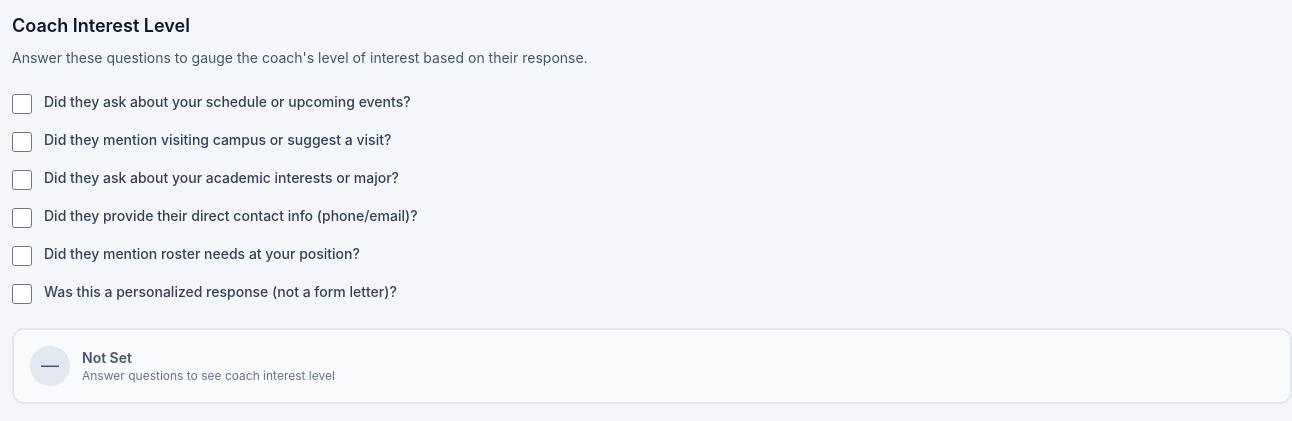
Scenario: InterestCalibration › displays emoji icons corresponding to interest level
Expected: the text "—" is shown, [41,352,59,380]
#  low: ❄️
Click the checkbox labelled "Did they ask about your schedule or upcoming events?". click: click(22, 104)
box: [12,94,32,114]
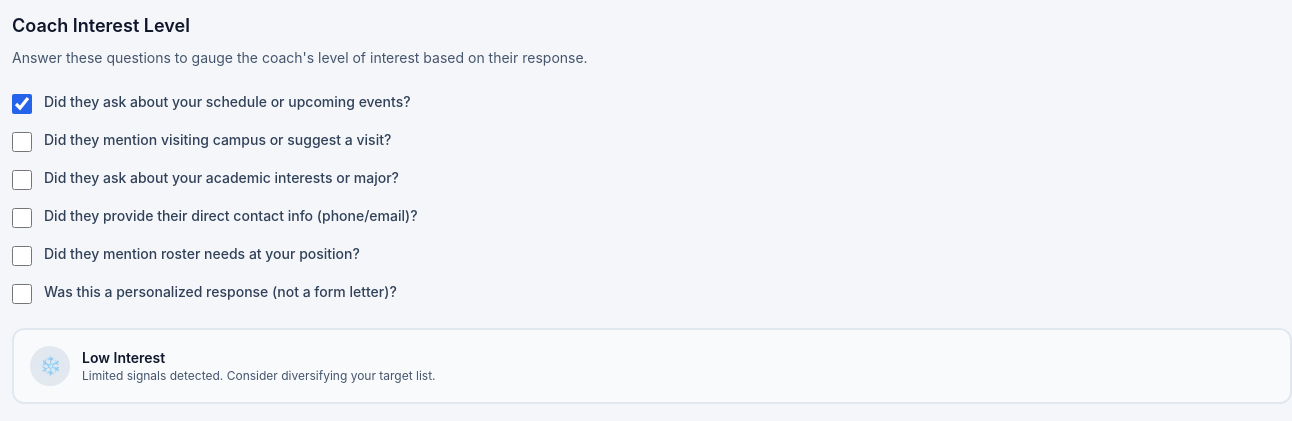
Now the text "❄️" is shown, box [39,352,61,380]
# medium: ⚡
Click the checkbox labelled "Did they mention visiting campus or suggest a visit?". click: click(22, 142)
box: [12,132,32,152]
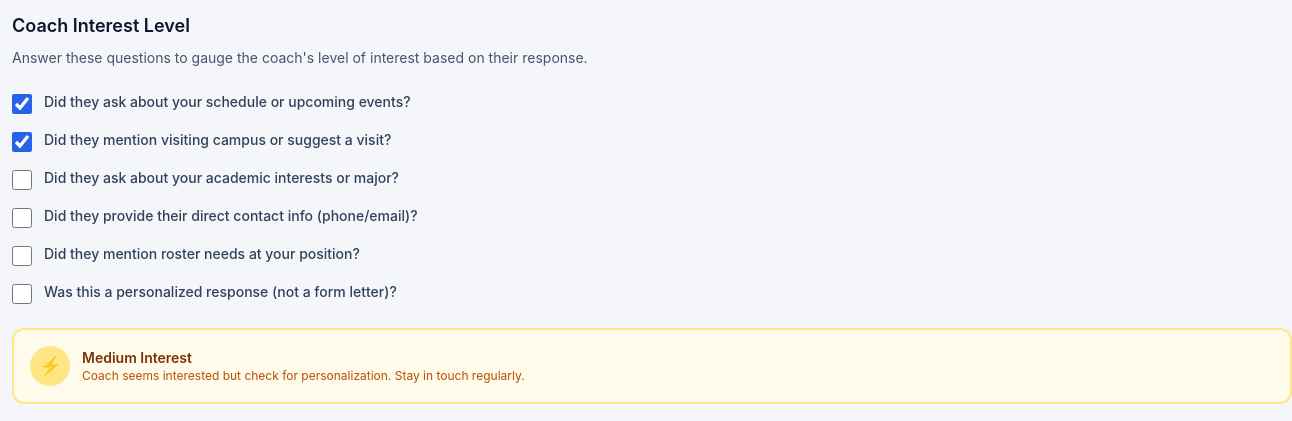
Now the text "⚡" is shown, box [39,352,61,380]
#  high: 🔥
Click the checkbox labelled "Did they ask about your academic interests or major?". click: click(22, 180)
box: [12,170,32,190]
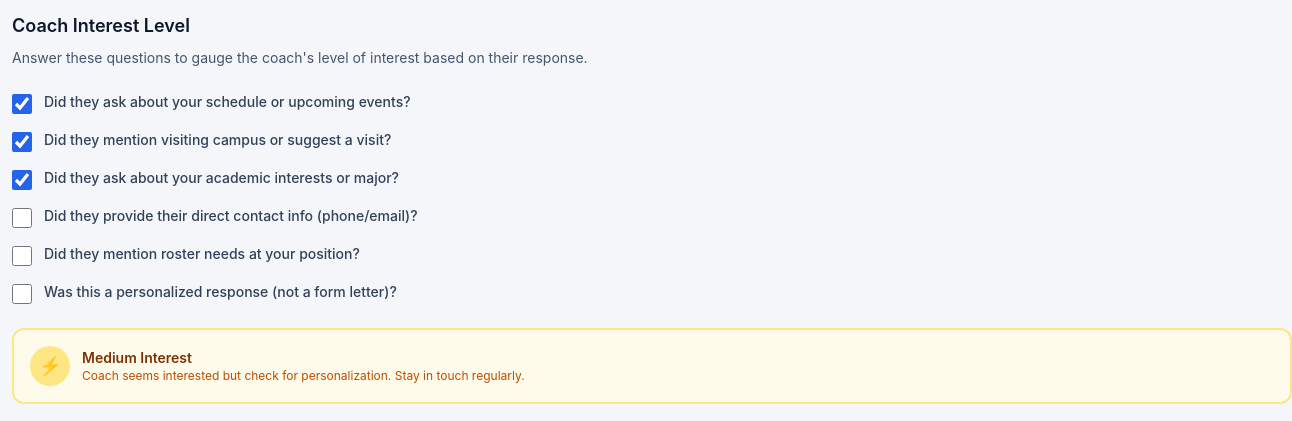
Click the checkbox labelled "Did they provide their direct contact info (phone/email)?". click: click(22, 218)
box: [12,208,32,228]
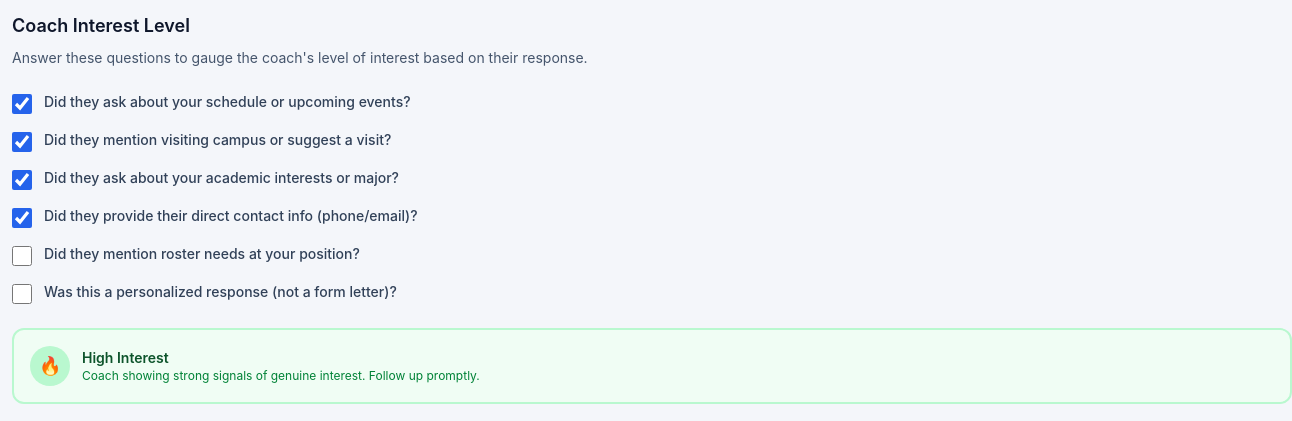
Now the text "🔥" is shown, box [39,352,61,380]
